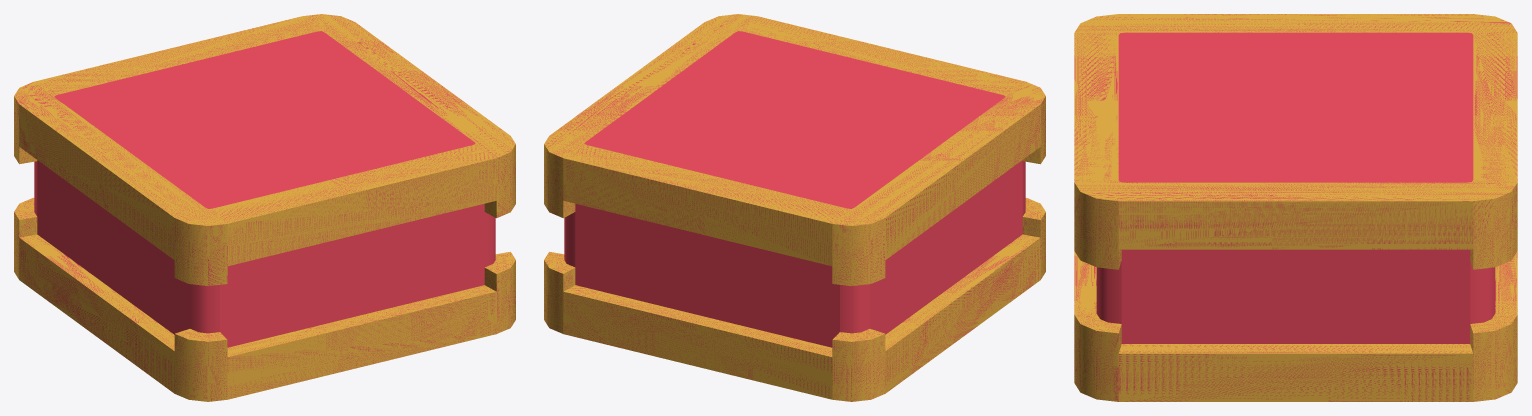
The model's file is blockMovingRed.dae.
3 views of the same model, side by side, from view 1: azimuth 30°, elevation 25°; view 2: azimuth 150°, elevation 25°; view 3: azimuth 270°, elevation 25° (orthographic). The views are drawn at different scales.
Parts seen in each view (by area): view 1: blockMovingRed; view 2: blockMovingRed; view 3: blockMovingRed.
Boxes of the visible parts, x1,y1,x2,y2 form: blockMovingRed: [14, 14, 515, 401]; blockMovingRed: [544, 14, 1045, 401]; blockMovingRed: [1074, 14, 1517, 401].
Size of the model in its own units: 1 by 0.5 by 1.
